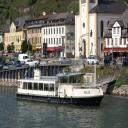tugboat: (16, 66, 106, 110)
